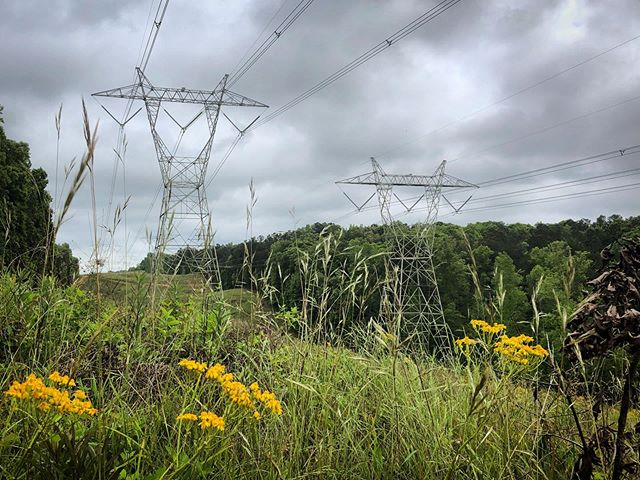power pole: (122, 66, 264, 321), (352, 144, 478, 373)
sky: (28, 1, 640, 208)
vegetation: (29, 303, 640, 480), (230, 231, 640, 378), (1, 141, 71, 279)
